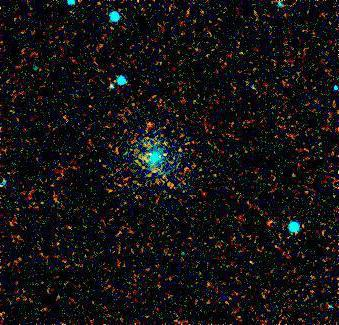star: (257, 203, 287, 233)
